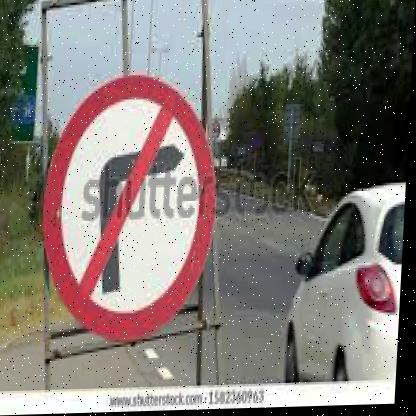No right turn: (37, 79, 218, 341)
